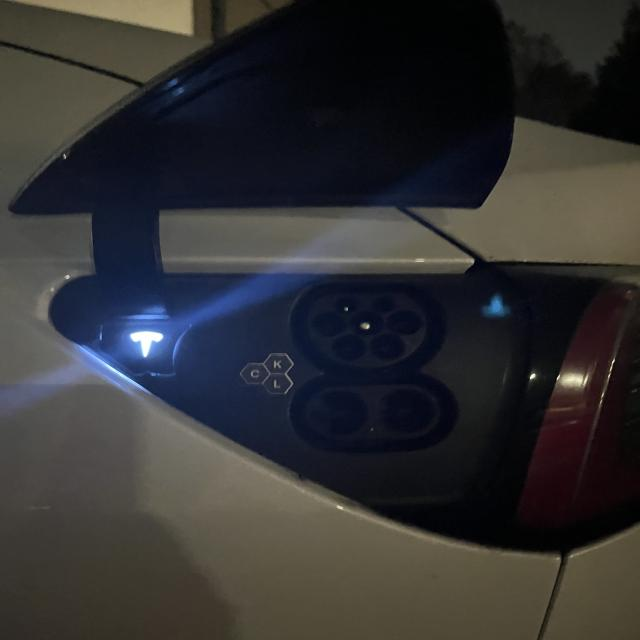inlet: (307, 292, 427, 367)
inlet-above-left: (335, 297, 359, 314)
inlet-above-right: (373, 296, 397, 311)
inlet-below-left: (330, 334, 367, 361)
inlet-below-right: (369, 334, 406, 359)
inlet-circle: (349, 311, 385, 335)
inlet-circle-left: (313, 313, 346, 337)
inlet-circle-right: (387, 311, 422, 335)
inlet-minus: (377, 389, 434, 432)
inlet-plus: (312, 390, 369, 435)
